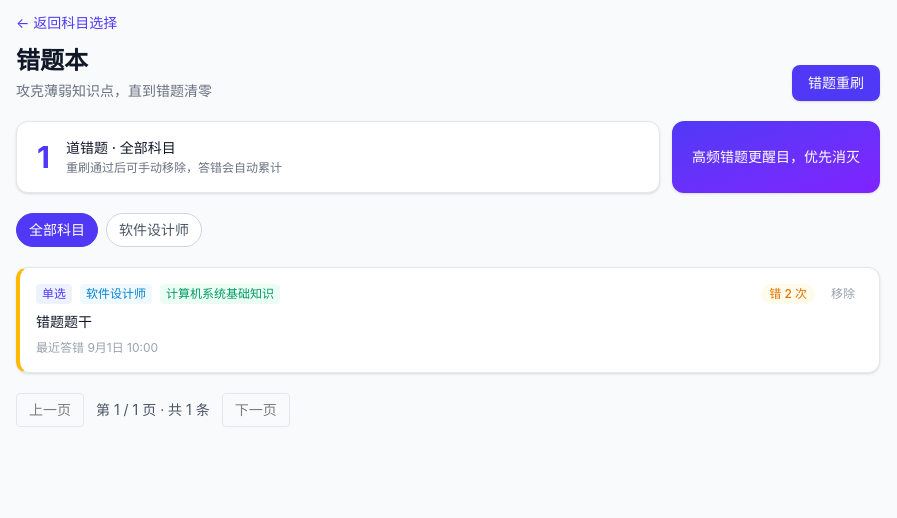
Test: MistakesPage 错题本列表 › 手动移除：DELETE 对应题目并刷新列表到空态
Click the button "移除" at (843, 294), box [823,284,863,304]
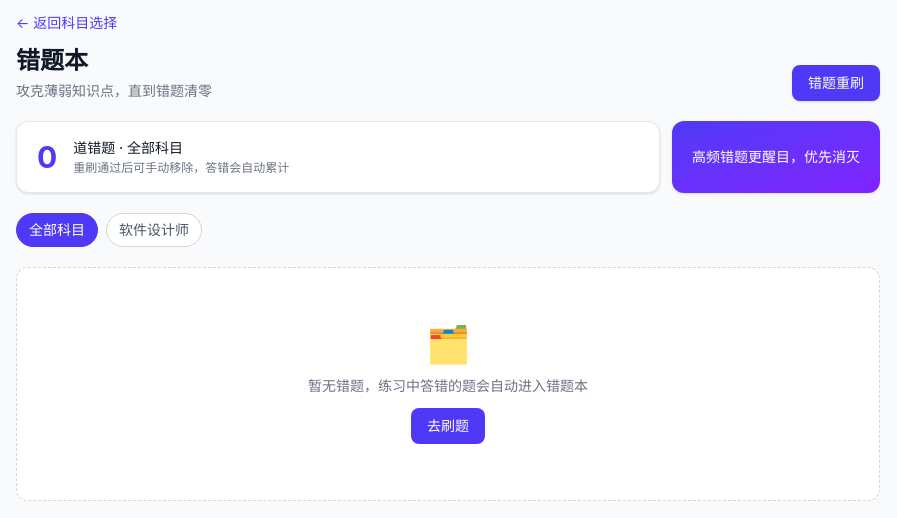
Expected: the text "暂无错题，练习中答错的题会自动进入错题本" is shown, [308,376,588,396]
